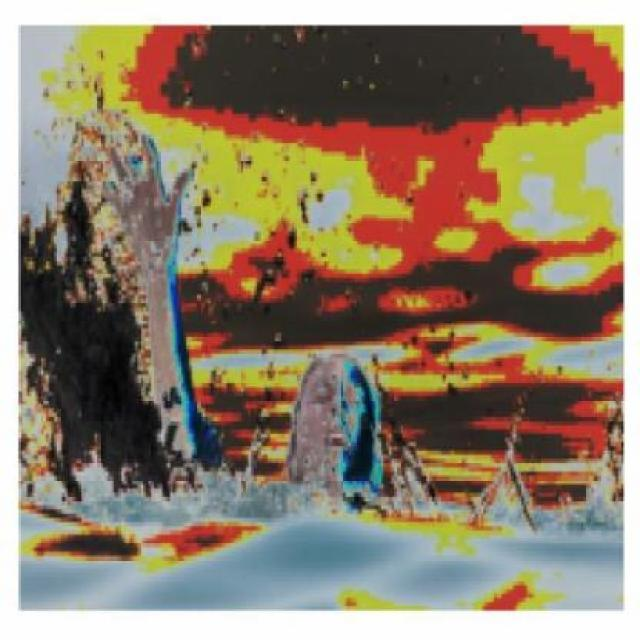drowning: (72, 23, 539, 614)
